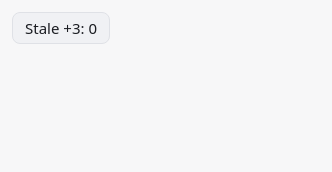
Test: functional state updates › value updates read stale state: +3 becomes +1
The width and height of the screenshot is (332, 172).
What coordinates should you click on to do the following:
click the button
I would click on:
 (61, 28)
Its box is [12,12,110,44].
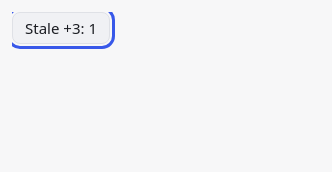
Result: the button reads "Stale +3: 1" at [12,12,110,44]
